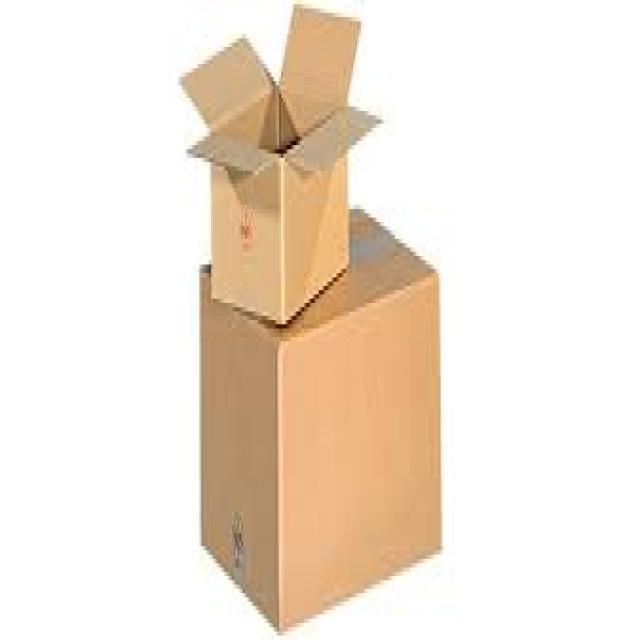Cardboard: (200, 206, 441, 627), (178, 14, 385, 317)
